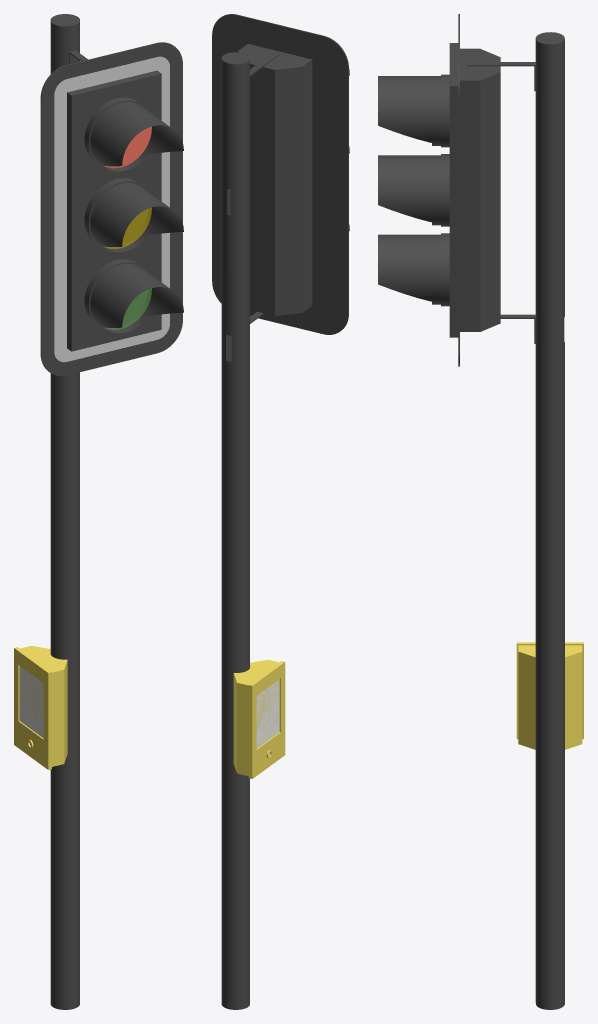
The model's file is Original_model.dae.
3 views of the same model, side by side, from view 1: azimuth 30°, elevation 25°; view 2: azimuth 150°, elevation 25°; view 3: azimuth 270°, elevation 25° (orthographic). The views are drawn at different scales.
Parts seen in each view (by area): view 1: group_1 (×12), ske16B, group_0 (×2); view 2: group_1 (×2), ske16B, group_0 (×2); view 3: ske16B, group_1 (×9), group_0.
Part boxes in pixels (x1,y1,x2,y2): group_1 (×12): (40,42,183,375); ske16B: (50,14,79,1009); group_0 (×2): (14,646,67,769); group_1 (×2): (212,14,348,334); ske16B: (221,52,249,1009); group_0 (×2): (233,659,285,778); ske16B: (535,32,564,1009); group_1 (×9): (378,14,500,366); group_0: (516,642,583,749).
Bounding box in the file's own units: 21.65 × 27.75 × 144.
